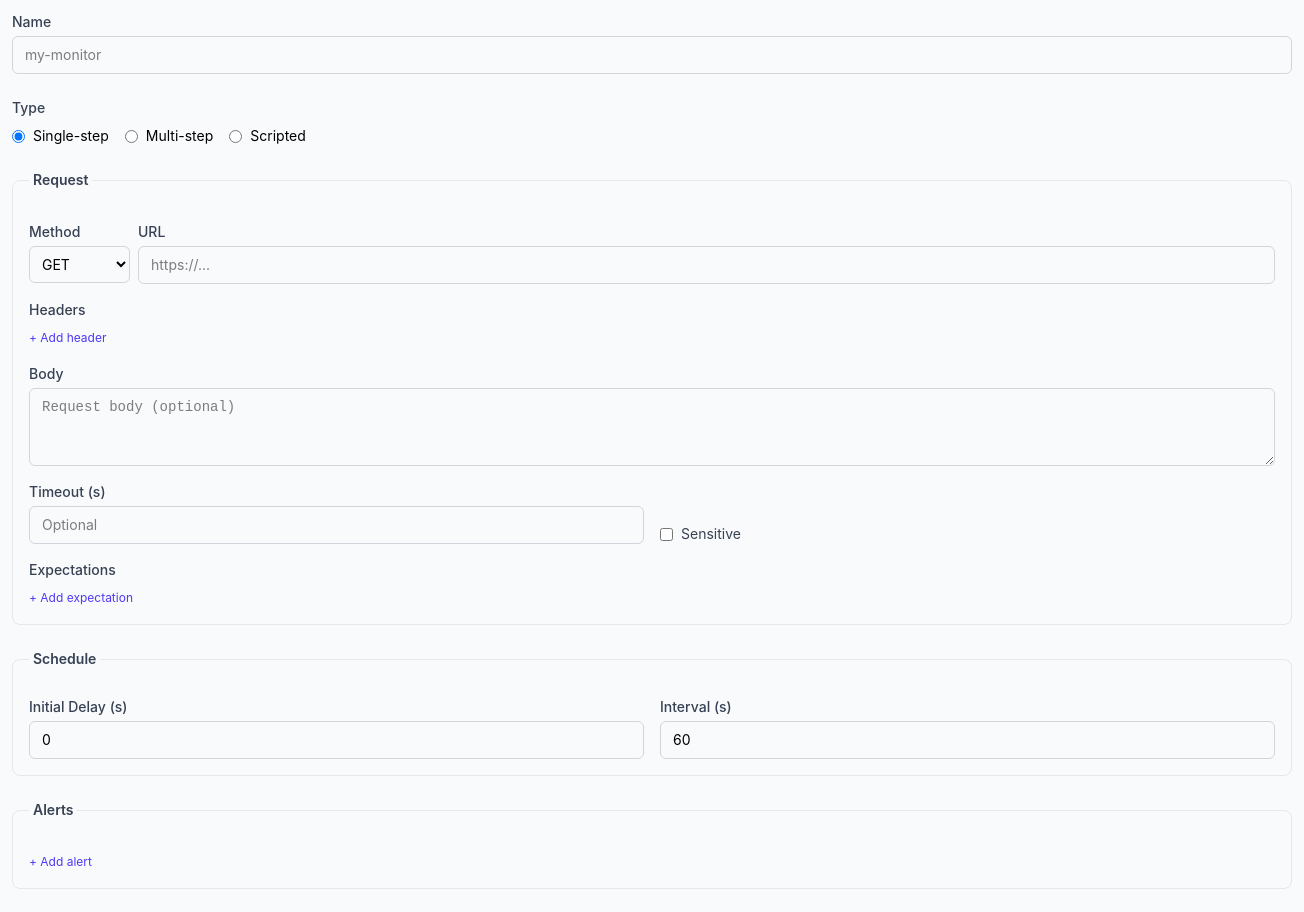
Test: MonitorForm (scripted UI) › switching from Scripted to Single-step shows URL
Click the radio button labelled "Scripted": x=236, y=136 [229,130,242,142]
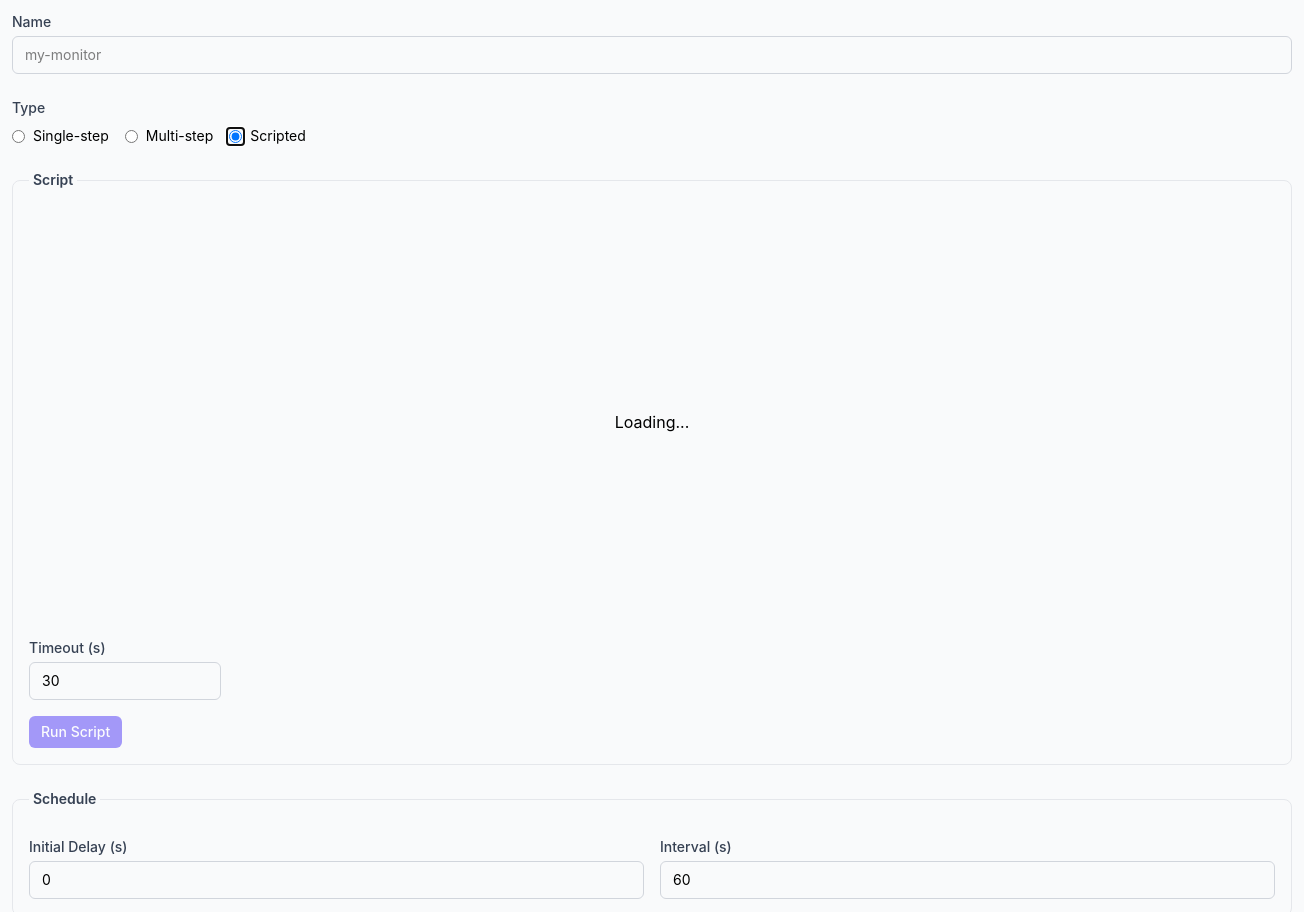
Check: the field with placeholder "https://..." is gone
Click the radio button labelled "Single-step": x=18, y=136 [12,130,25,142]
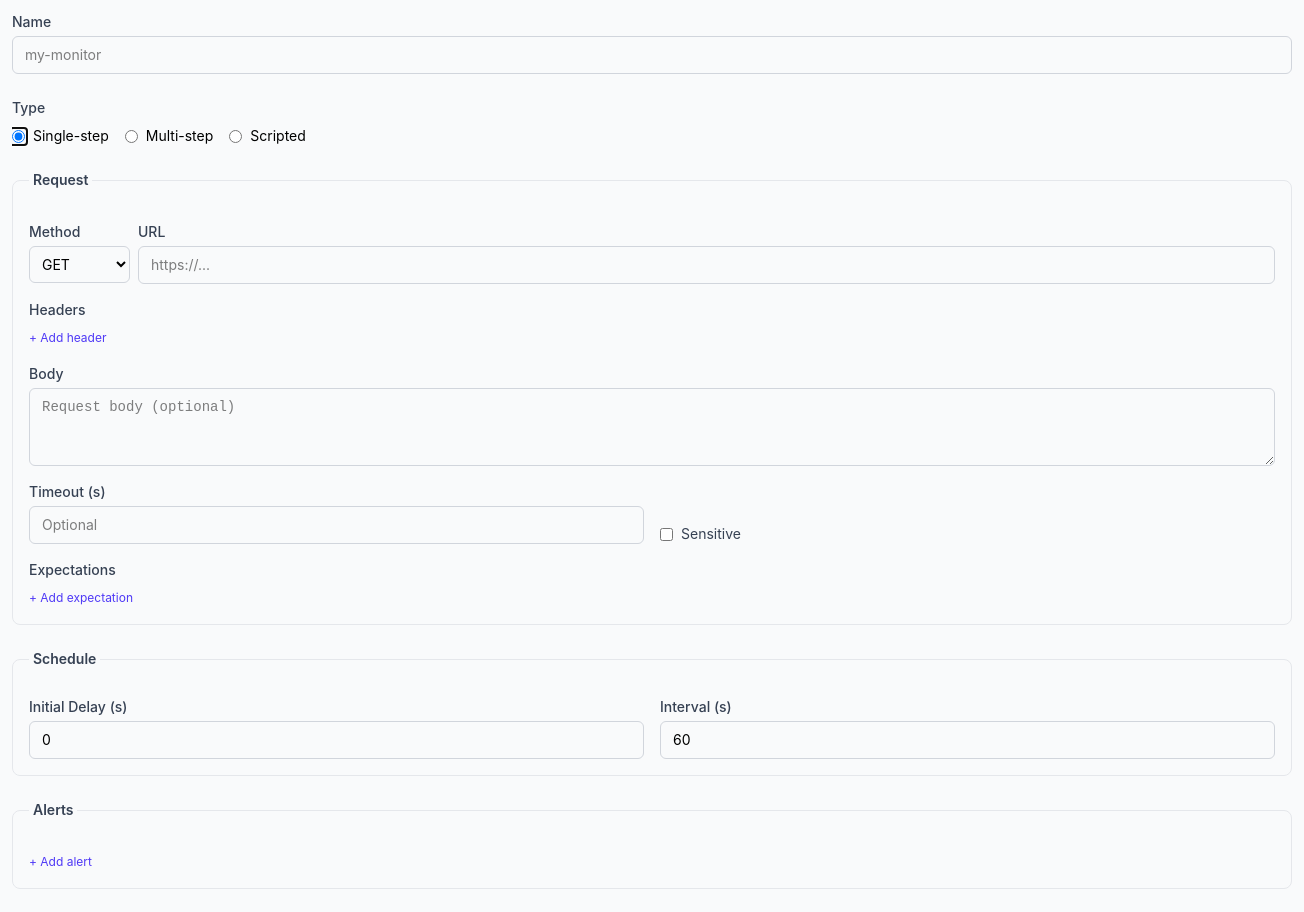
Check: the field with placeholder "https://..." is shown, box [138,246,1275,284]
